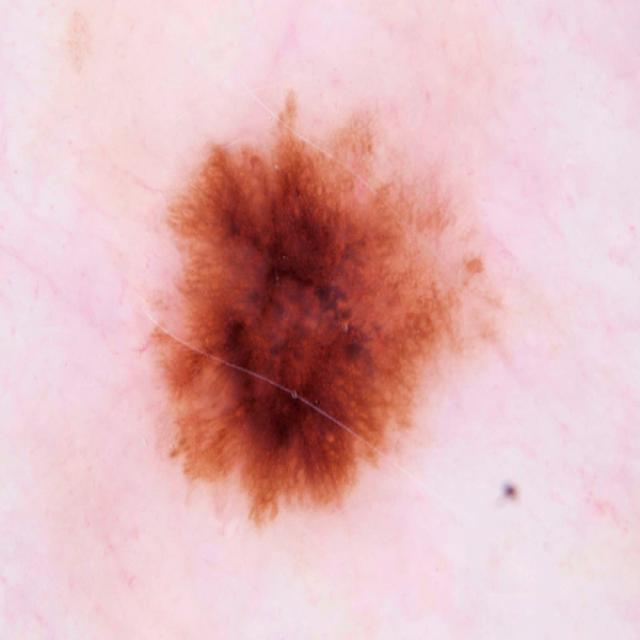NV: (122, 84, 548, 539)
